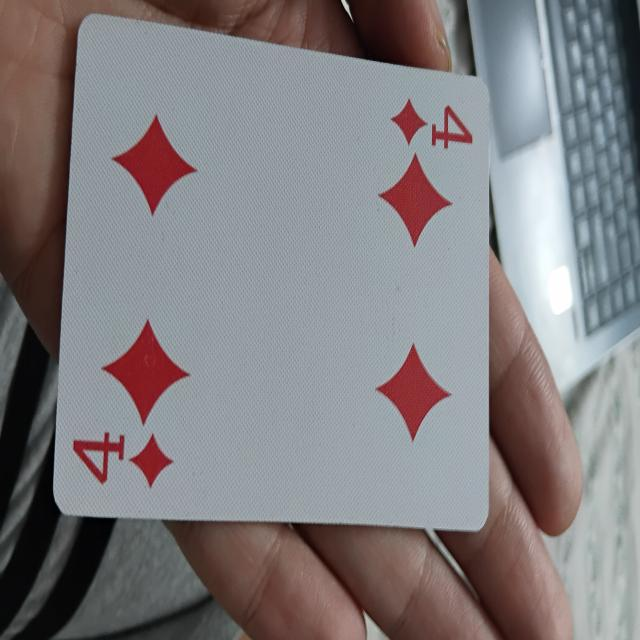4D: (46, 53, 492, 532)
